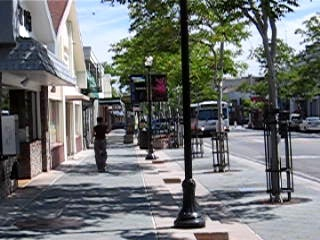person: (92, 115, 111, 172), (91, 115, 110, 172), (93, 115, 112, 172), (92, 114, 111, 171), (92, 116, 111, 173)
target_negative: (32, 132, 159, 190), (167, 122, 240, 160), (86, 144, 135, 196), (253, 216, 298, 228), (266, 237, 304, 238)
